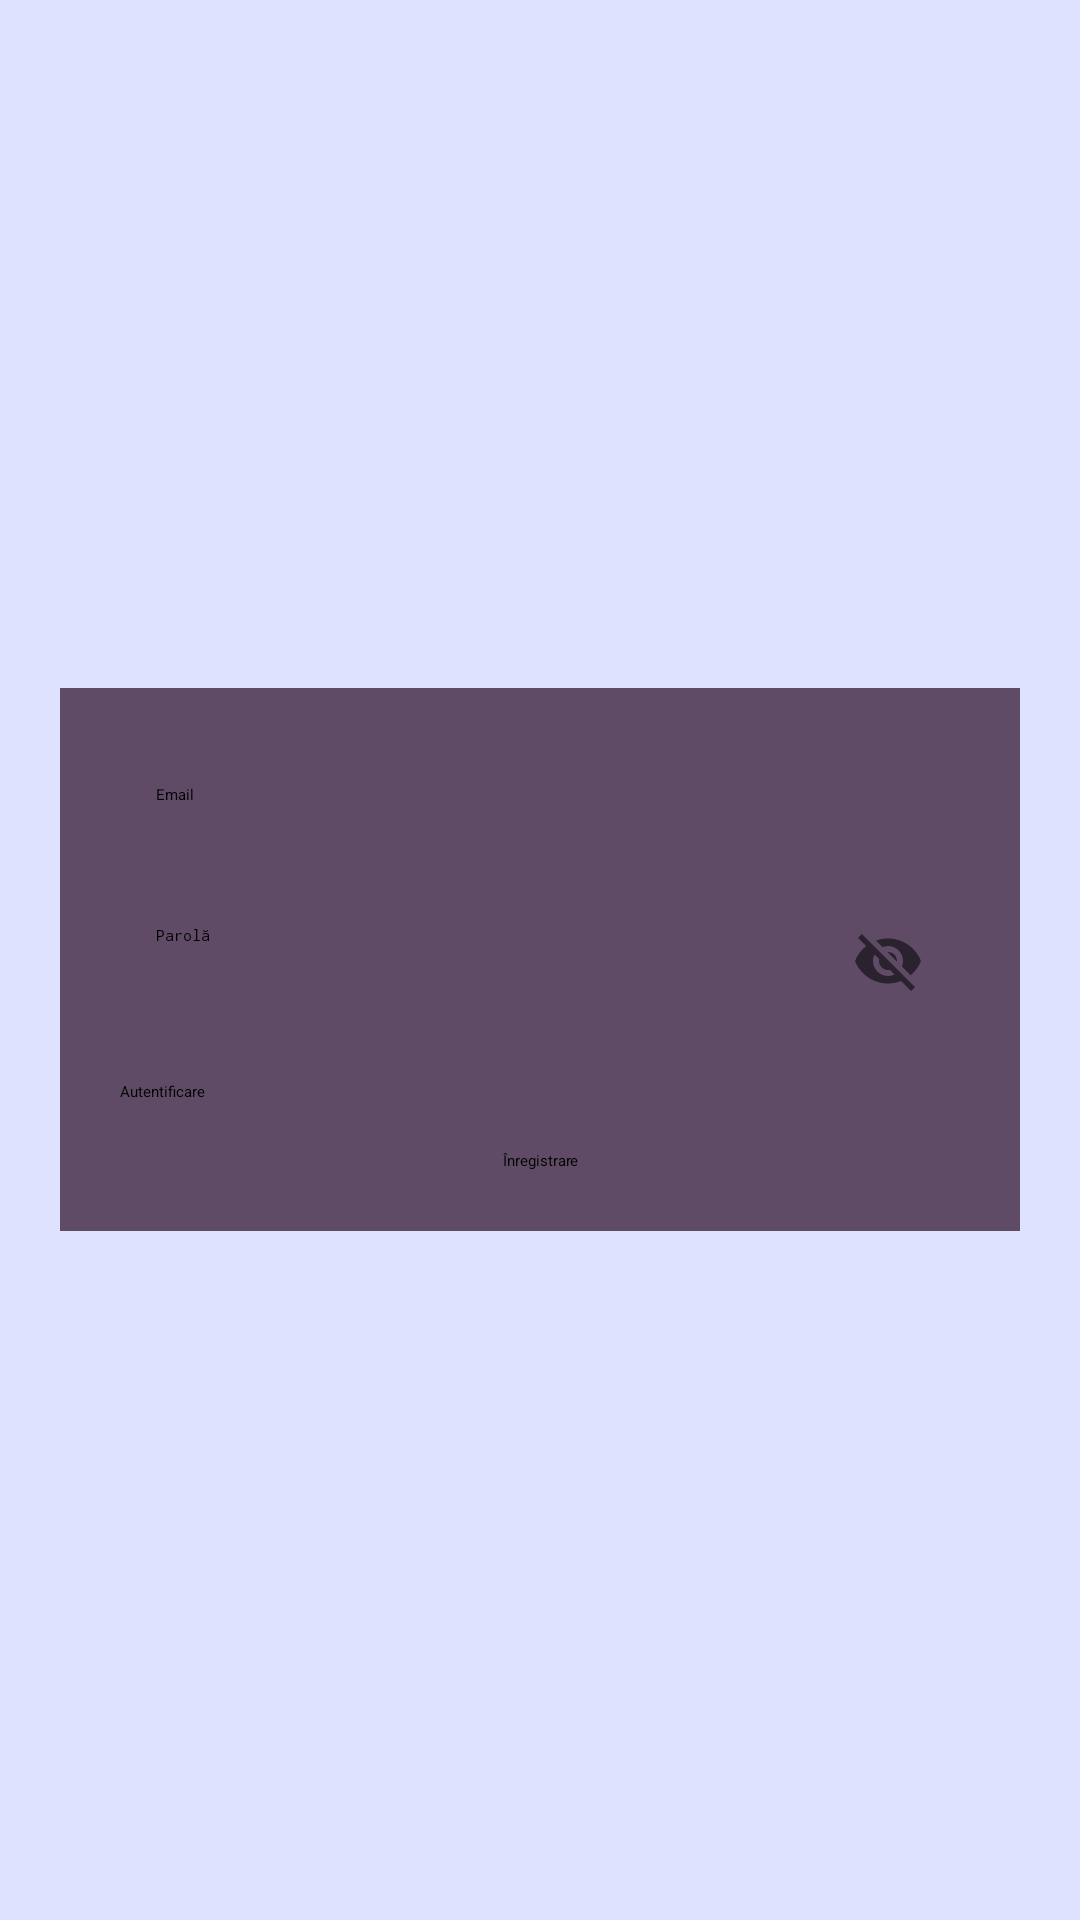

Icons on this 1080 x 1920 Android screen, each with the point to tap as (x=x, y=y):
Toggle password visibility: (x=888, y=962)
